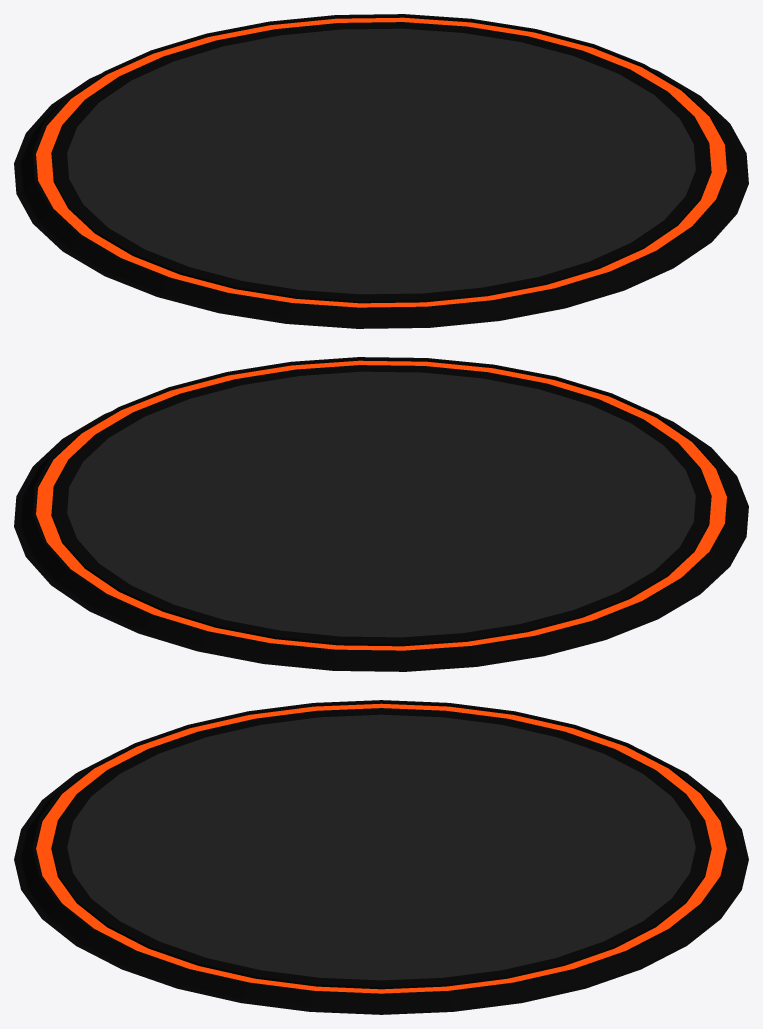
The model's file is PlatePayload.fbx.
3 renders of one model, top to bottom at view 1: azimuth 30°, elevation 25°; view 2: azimuth 150°, elevation 25°; view 3: azimuth 270°, elevation 25°, orthographic.
Parts seen in each view (by area): view 1: PlateMove, Plate; view 2: PlateMove, Plate; view 3: PlateMove, Plate.
Boxes of the visible parts, x1,y1,x2,y2 form: PlateMove: [67, 28, 695, 294]; Plate: [14, 14, 748, 328]; PlateMove: [67, 371, 695, 637]; Plate: [14, 357, 748, 671]; PlateMove: [67, 714, 695, 980]; Plate: [14, 700, 748, 1014].
Bounding box in the file's own units: 722 × 13.06 × 722.
